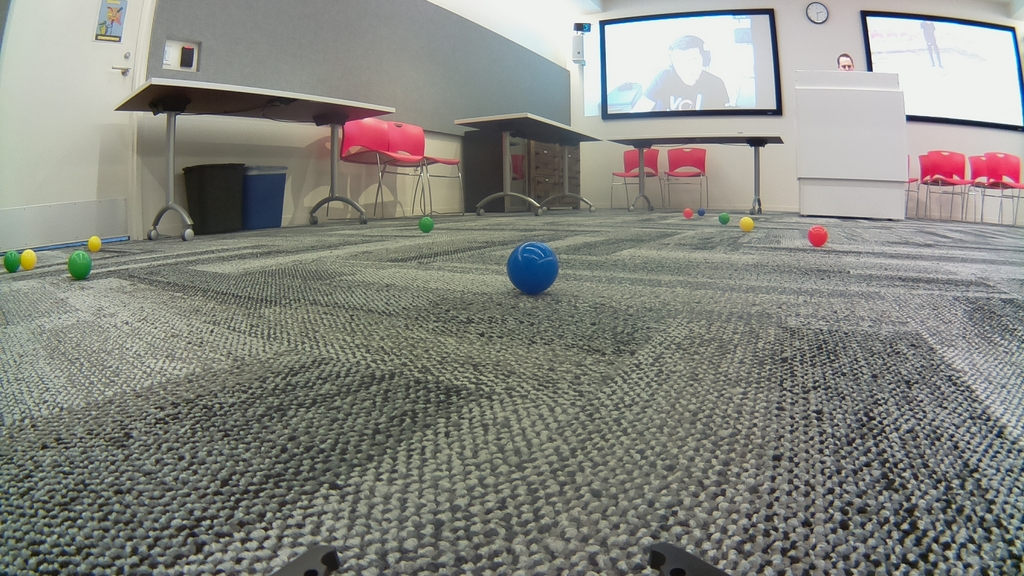ball: (697, 208, 703, 213)
